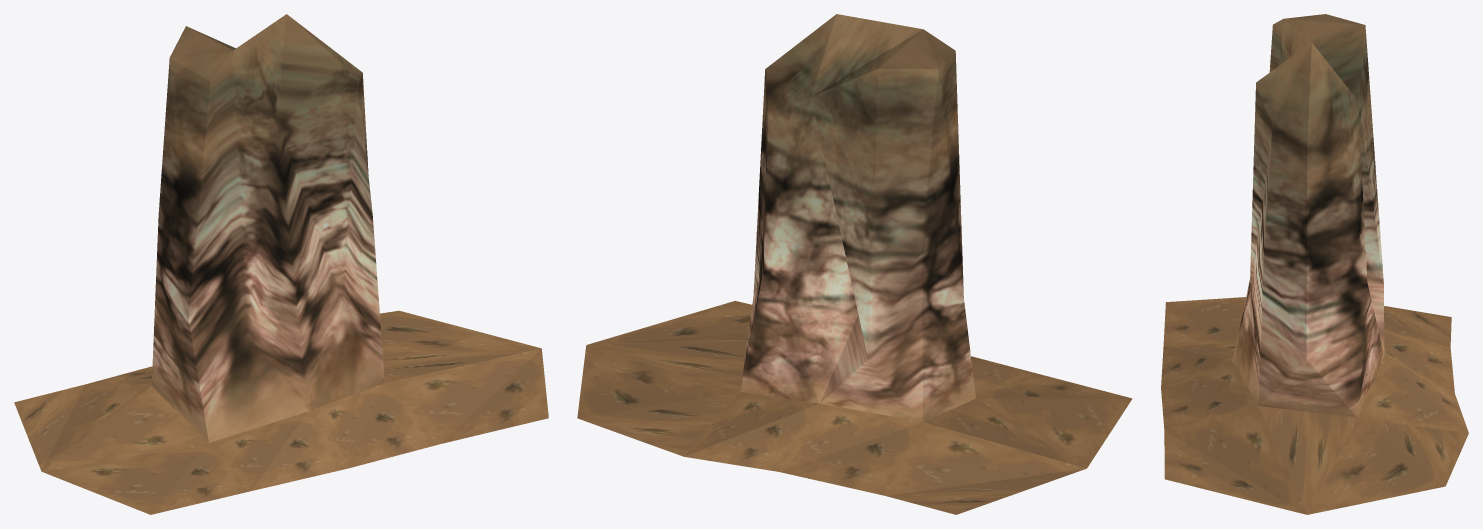
The picture shows the model from 3 angles, left to right: view 1: azimuth 30°, elevation 25°; view 2: azimuth 150°, elevation 25°; view 3: azimuth 270°, elevation 25°; orthographic projection. The views are drawn at different scales.
Parts seen in each view (by area): view 1: Object15; view 2: Object15; view 3: Object15.
Part boxes in pixels (left/top/right/bottom): Object15: left=14, top=14, right=548, bottom=514; Object15: left=577, top=14, right=1132, bottom=514; Object15: left=1161, top=14, right=1468, bottom=514.
Bounding box in the file's own units: 4137 × 3134 × 2414.
Materials: 2 (2 with a texture image).
